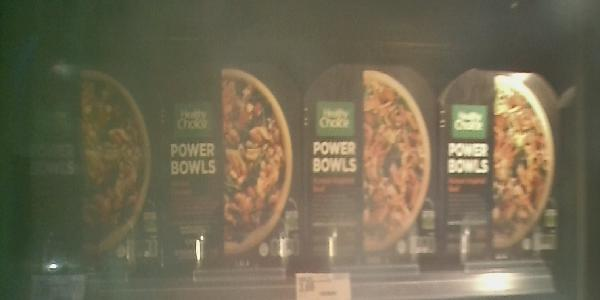pizza1: (15, 57, 169, 270), (171, 57, 308, 270), (305, 63, 440, 267), (439, 62, 565, 256)
